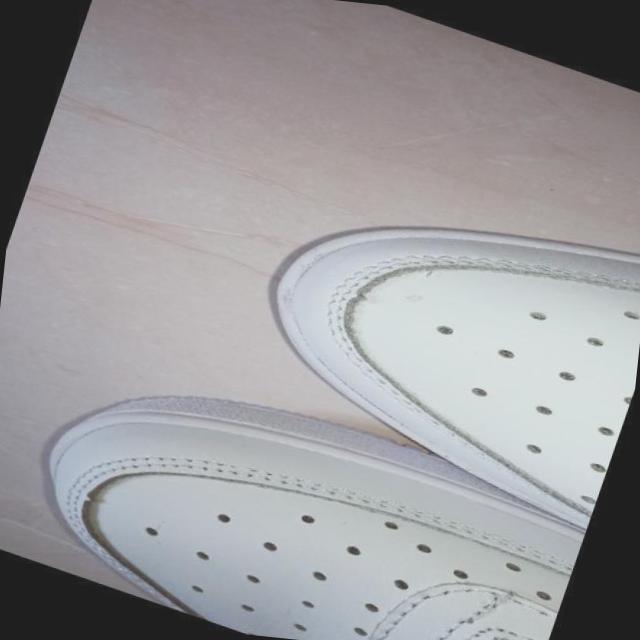nike_fake_airforce: (0, 323, 607, 640), (221, 110, 640, 533)
